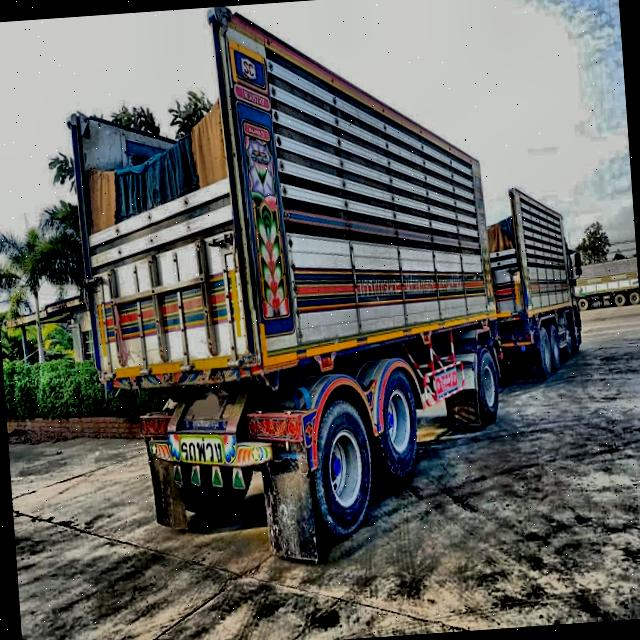trailer: (51, 0, 609, 581)
